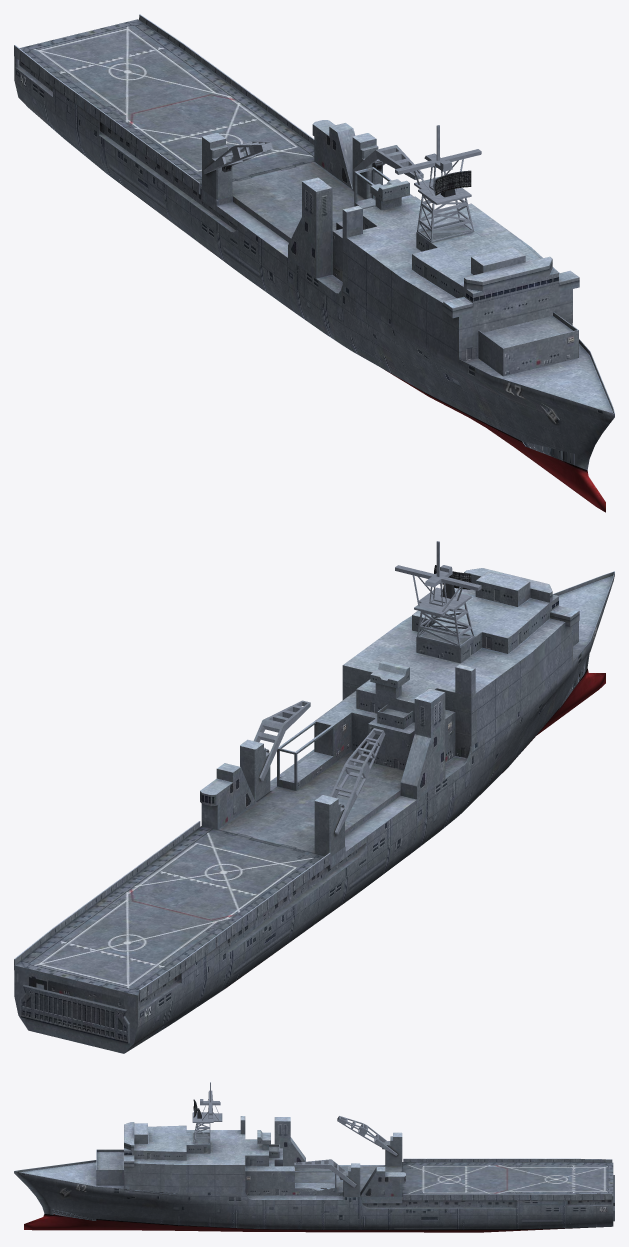
Rendered from xhhdlj.gltf.
3 views of the same model, one above another, from view 1: azimuth 30°, elevation 25°; view 2: azimuth 150°, elevation 25°; view 3: azimuth 270°, elevation 25° (orthographic). The views are drawn at different scales.
Parts seen in each view (by area): view 1: DLJ_XHH; view 2: DLJ_XHH; view 3: DLJ_XHH.
Part boxes in pixels (x1,y1,x2,y2): DLJ_XHH: (14, 14, 614, 512); DLJ_XHH: (14, 541, 614, 1053); DLJ_XHH: (14, 1082, 614, 1232).
Bounding box in the file's own units: 3.56 × 6.72 × 24.85.
2 materials, 2 textured.
